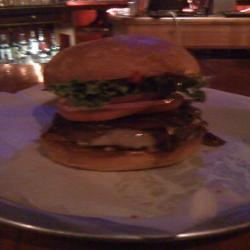burger: (34, 35, 217, 178)
salad: (48, 82, 134, 103)
